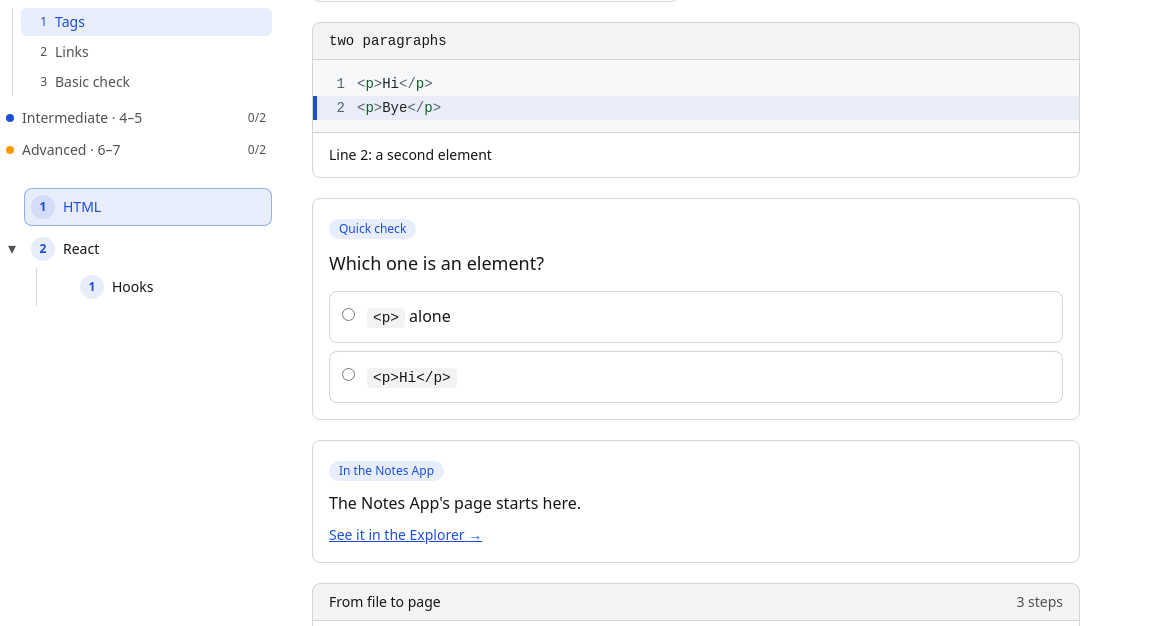
Test: StepPlayer › checks a quick check on the server and explains a right answer
This screenshot has width=1152, height=626.
(page scrolled)
Check: the text "Which one is an element?" is shown, box [329,251,544,275]
Click the radio button labelled "<p> alone" at (348, 314), box [342,308,355,321]
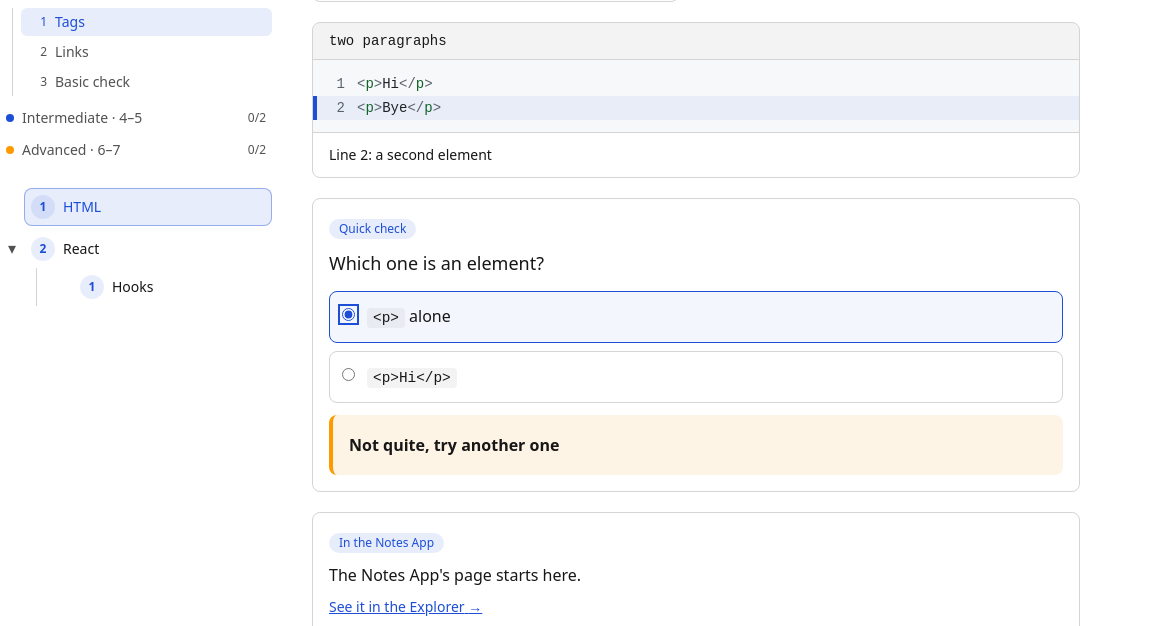
Check: the text "whole thing" is not shown
Check: the text "Not quite, try another one" is shown, box [349,434,559,456]
Click the radio button labelled "<p>Hi</p>" at (348, 374), box [342,368,355,381]
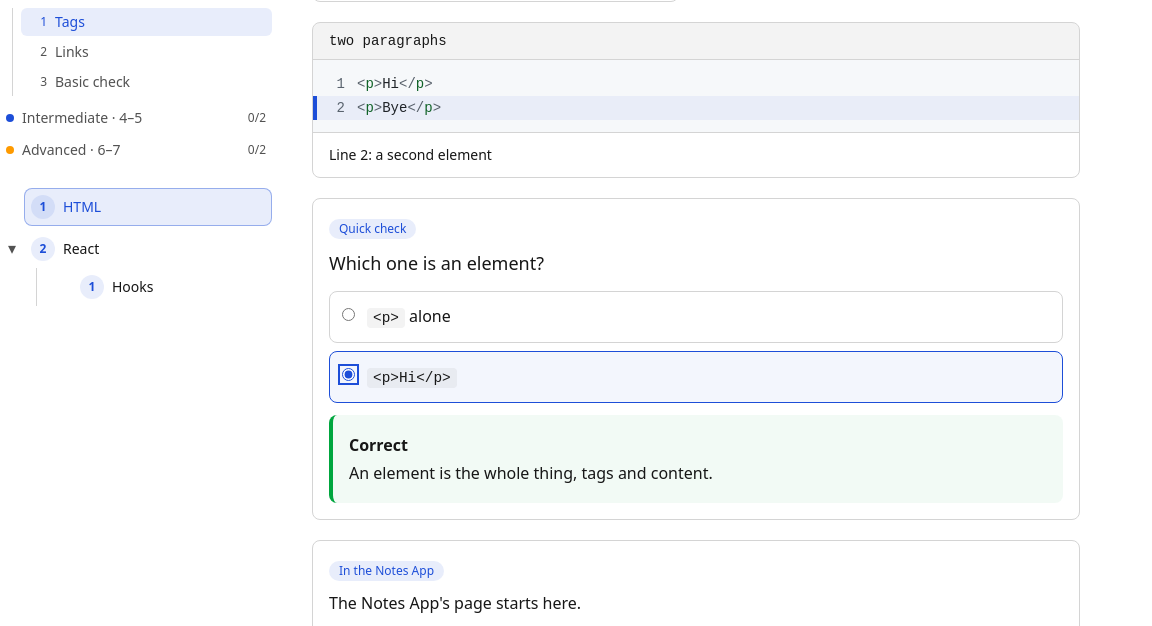
Check: the text "Correct" is shown, box [349,434,408,456]
Check: the text "An element is the whole thing, tags and content." is shown, box [349,462,713,484]
